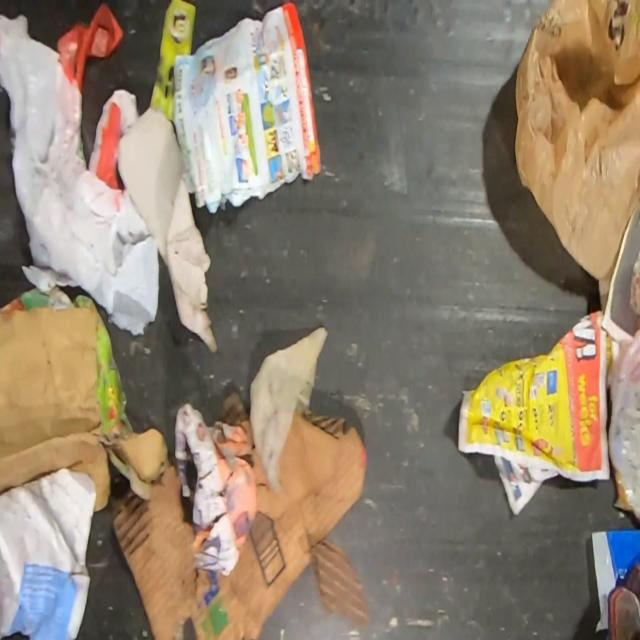cardboard: (110, 387, 372, 640), (0, 304, 168, 508), (115, 104, 218, 356), (0, 467, 99, 640)
soft_plastic: (0, 0, 162, 338), (514, 0, 640, 281), (606, 327, 640, 527), (88, 87, 140, 191), (590, 527, 640, 634)
